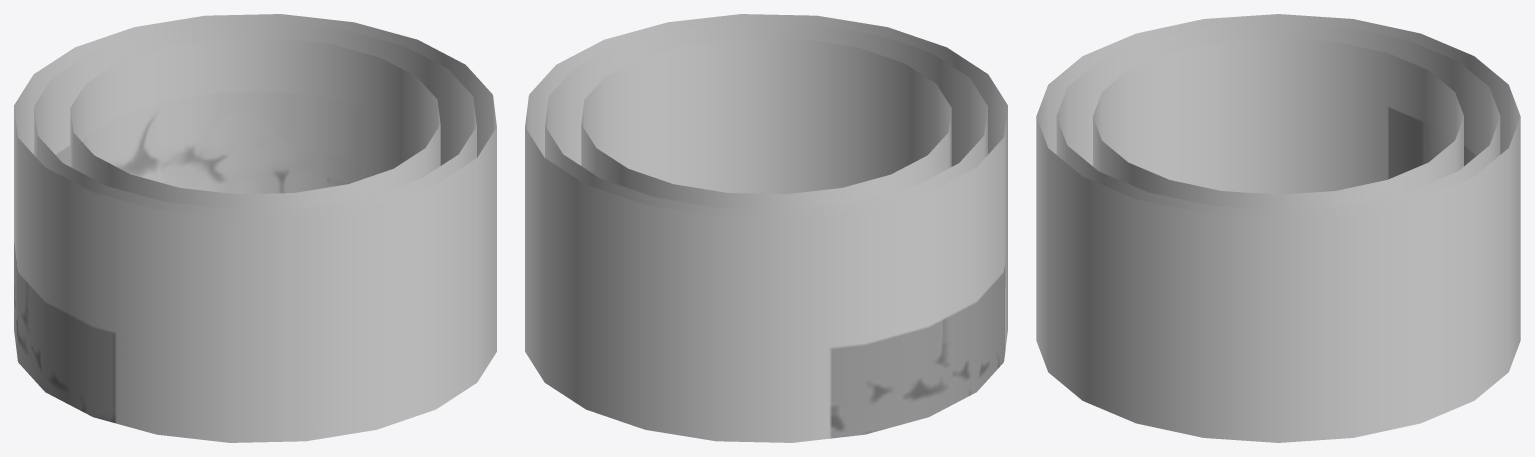
The model's file is Cloud_circle.fbx.
3 renders of one model, left to right at view 1: azimuth 30°, elevation 25°; view 2: azimuth 150°, elevation 25°; view 3: azimuth 270°, elevation 25°, orthographic.
Parts seen in each view (by area): view 1: Cloud_circle; view 2: Cloud_circle; view 3: Cloud_circle.
Boxes of the visible parts, <box> form: Cloud_circle: <box>14,14,496,442</box>; Cloud_circle: <box>525,14,1007,442</box>; Cloud_circle: <box>1036,14,1520,442</box>.
Bounding box in the file's own units: 3914 × 2000 × 3914.
